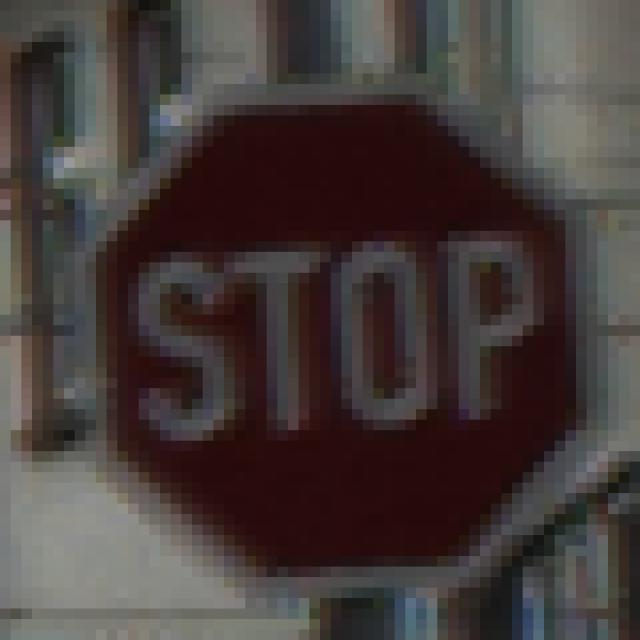STOP: (65, 54, 588, 589)
